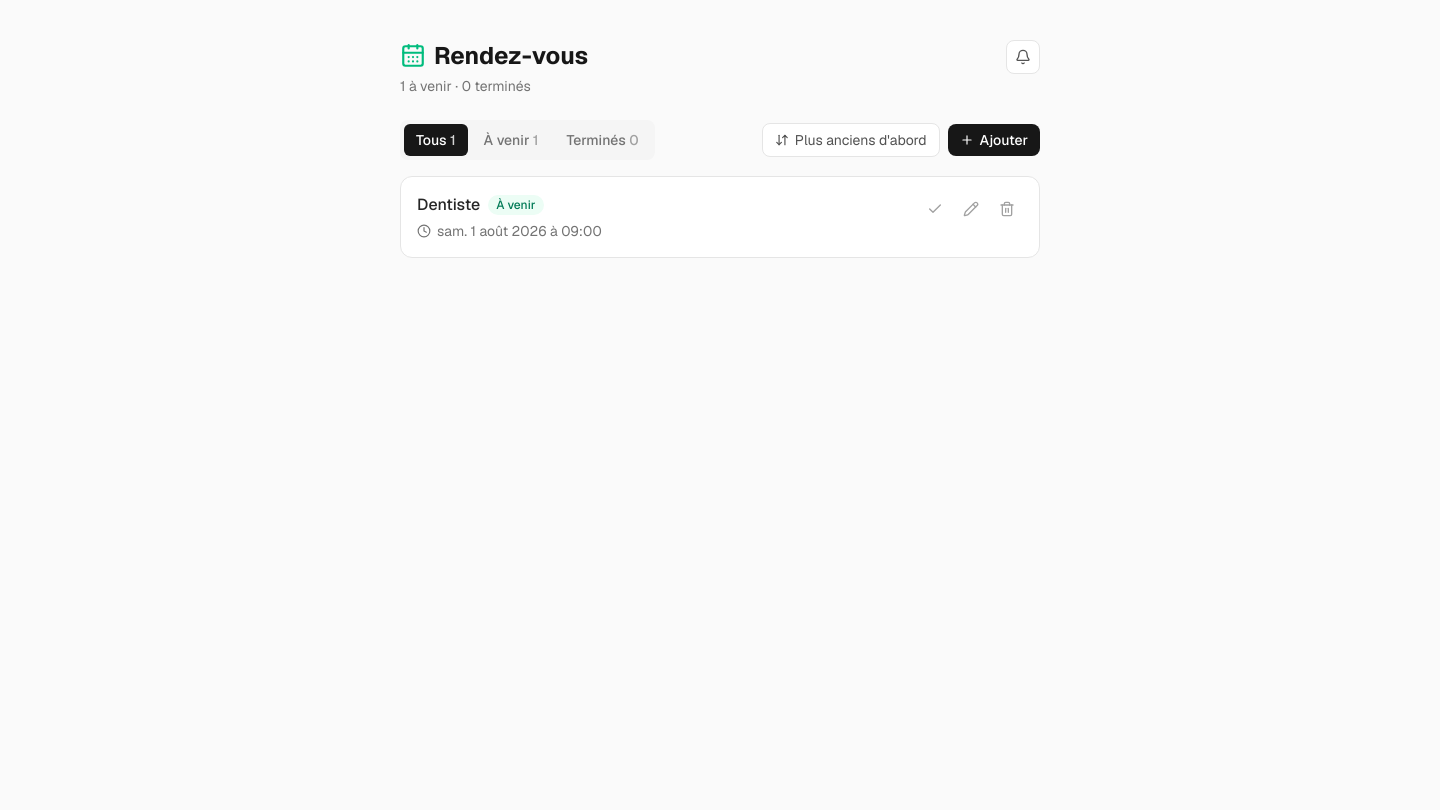
Test: the appointment form dialog › opens a blank form from the toolbar button
The image size is (1440, 810).
Click the button "Ajouter" at {"x": 994, "y": 140}, box [948,124,1040,156]
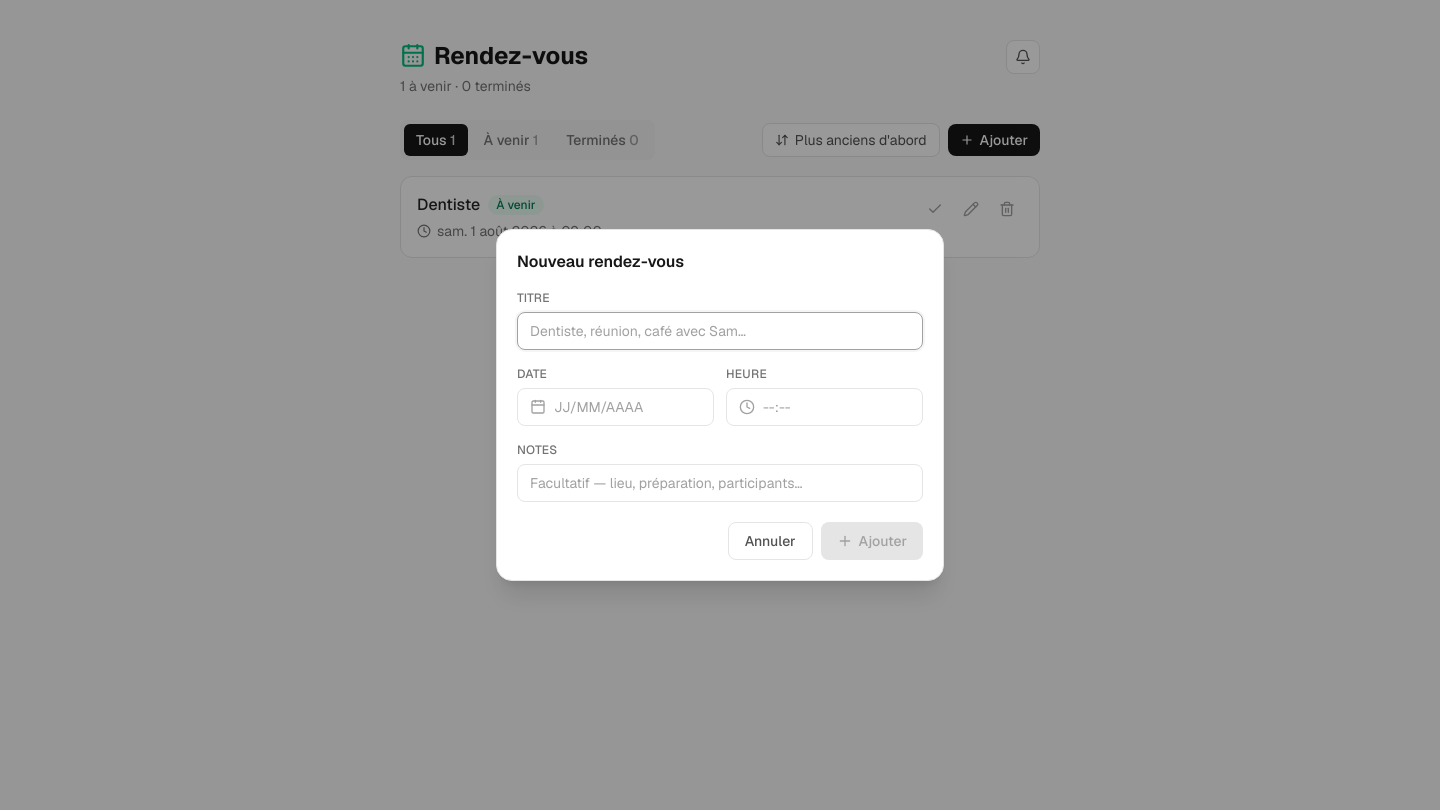
Result: the heading "Nouveau rendez-vous" is shown at [517,251,684,272]
Result: the field labelled "Titre" is empty at [517,312,923,350]
